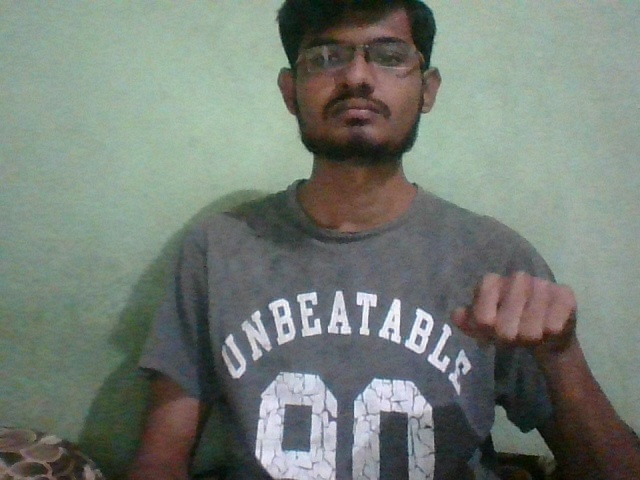yes: (441, 259, 611, 378)
